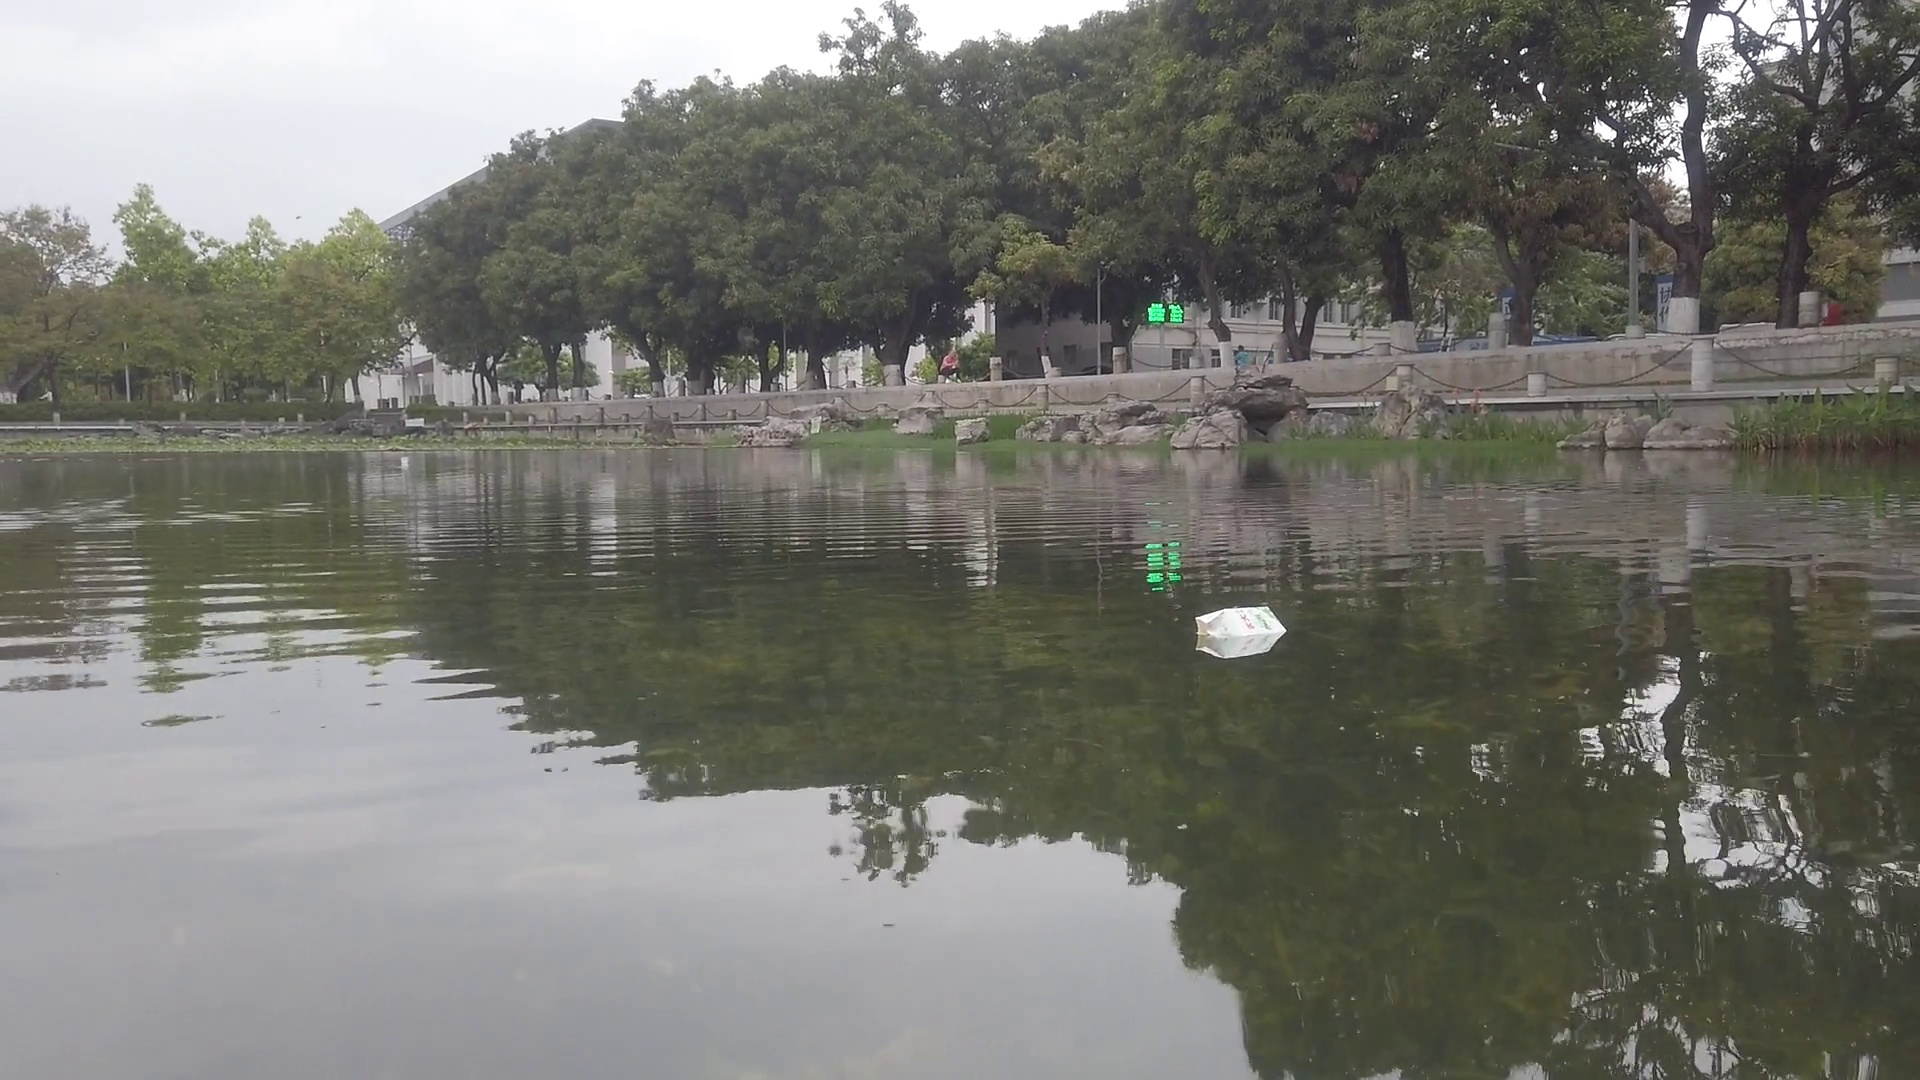carton: (1195, 607, 1286, 653), (400, 454, 410, 465)
